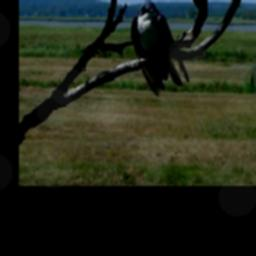Swallow: (128, 0, 192, 98)
